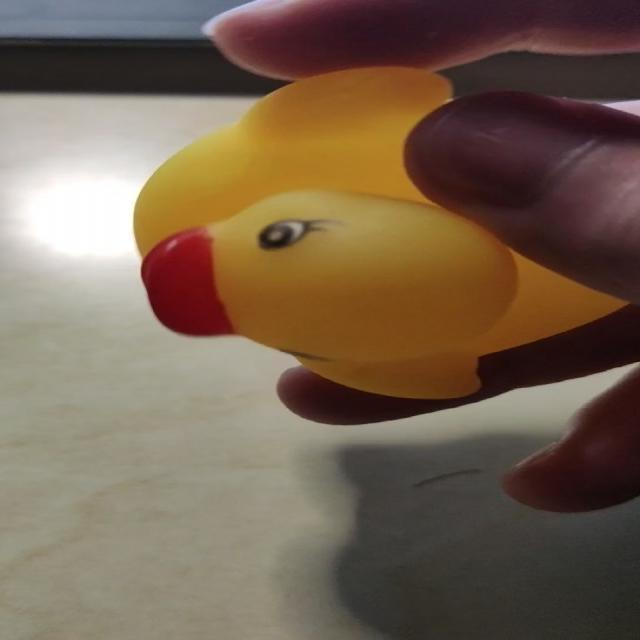rubber-duck: (133, 67, 620, 397)
